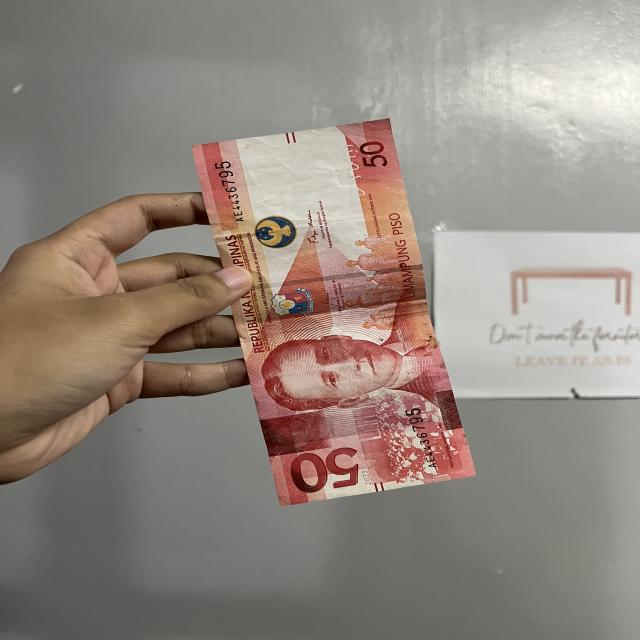concealed_value: (260, 413, 337, 458)
see_through_mark: (328, 132, 374, 205)
value: (276, 435, 369, 494)
